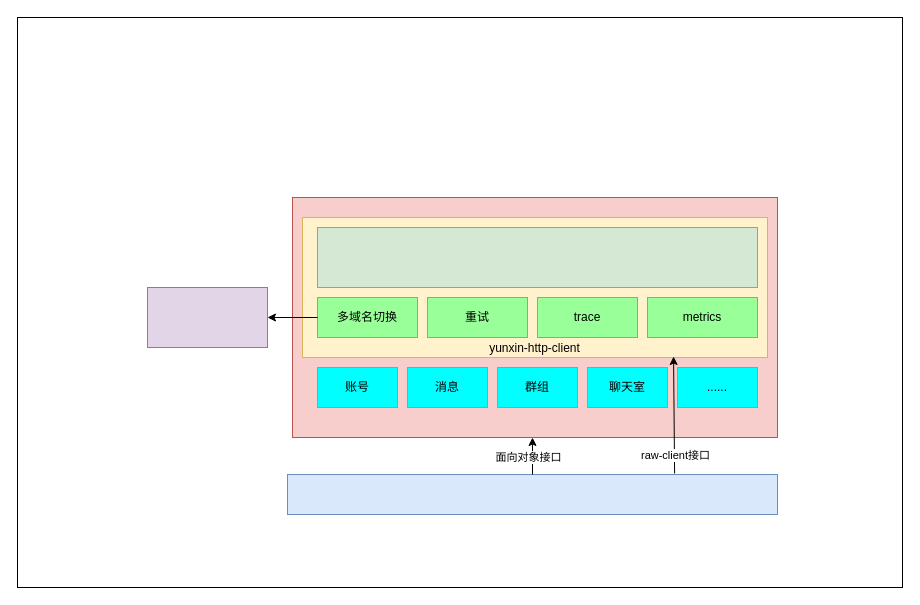
Some shapes in this 920 by 605 pixel diagram are drawn without their labels. The shapes that lost their labels are listed below. From the top down, each one's box as (x1, y1, x2, y2) in pixels, then its label:
(316, 226, 758, 288): 底层网络库 (okhttpclient)
(146, 286, 268, 348): 域名调度服务
(292, 196, 778, 438): yunxin-server-sdk
(286, 474, 778, 514): 业务调用方
